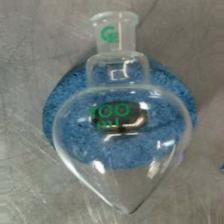Pear shaped flask: (48, 18, 190, 221)
